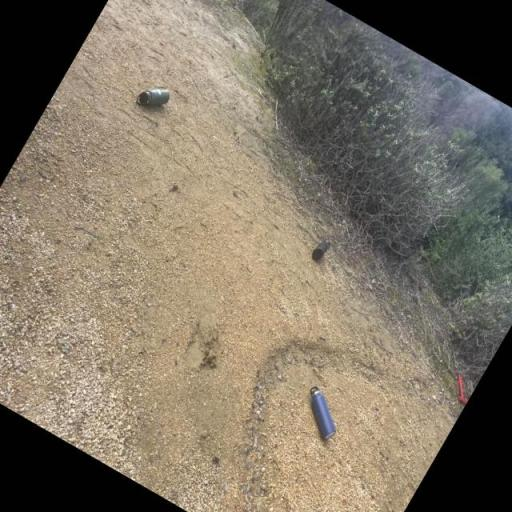bottle: (288, 380, 354, 450), (129, 72, 179, 120), (306, 232, 337, 266)
mallet: (443, 370, 479, 410)
